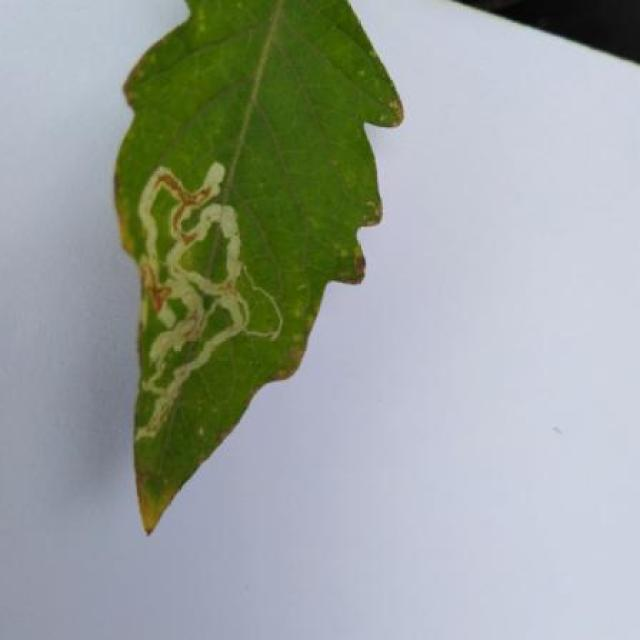Leaf Miner: (108, 0, 402, 541)
